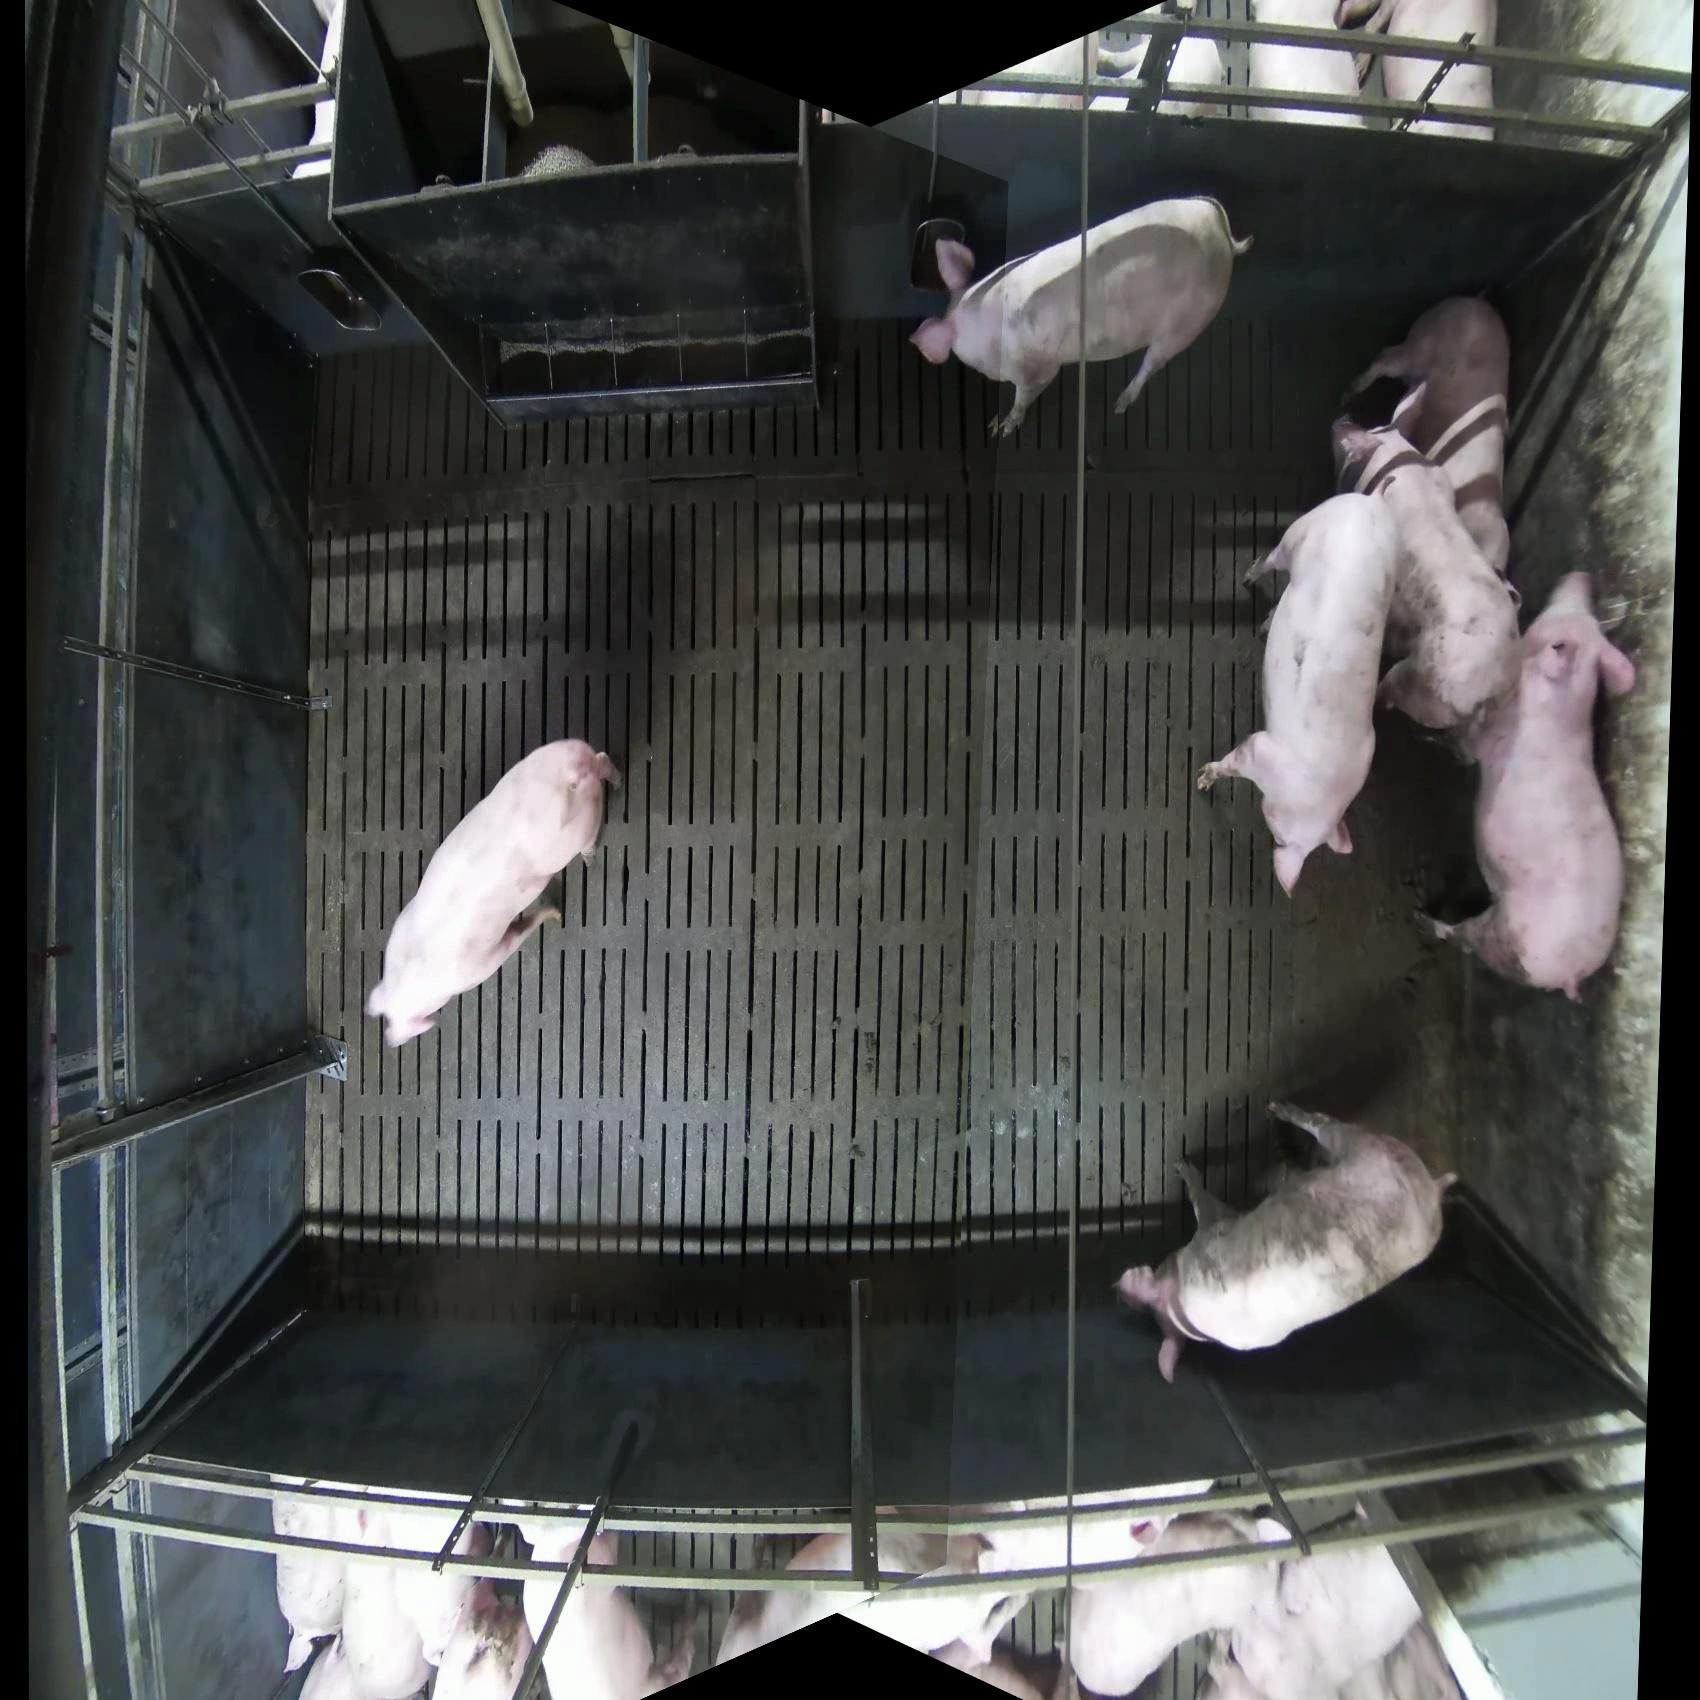pig: (1113, 1098, 1460, 1386), (1412, 570, 1639, 1006), (908, 193, 1255, 445), (1196, 489, 1401, 898), (364, 736, 621, 1049), (1329, 414, 1526, 747), (1333, 293, 1515, 579), (1207, 1499, 1465, 1700), (715, 1523, 1032, 1674), (1065, 1505, 1295, 1698), (523, 1521, 655, 1698), (1336, 2, 1501, 142), (427, 1521, 536, 1698), (1249, 2, 1381, 129), (271, 1495, 358, 1674)
